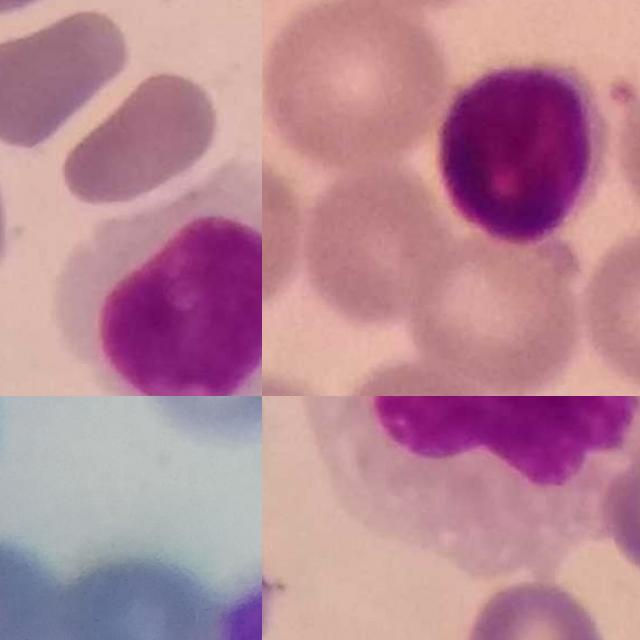Lymphocyte: (54, 156, 262, 396), (436, 54, 611, 249)
Monocyte: (318, 396, 640, 559)
